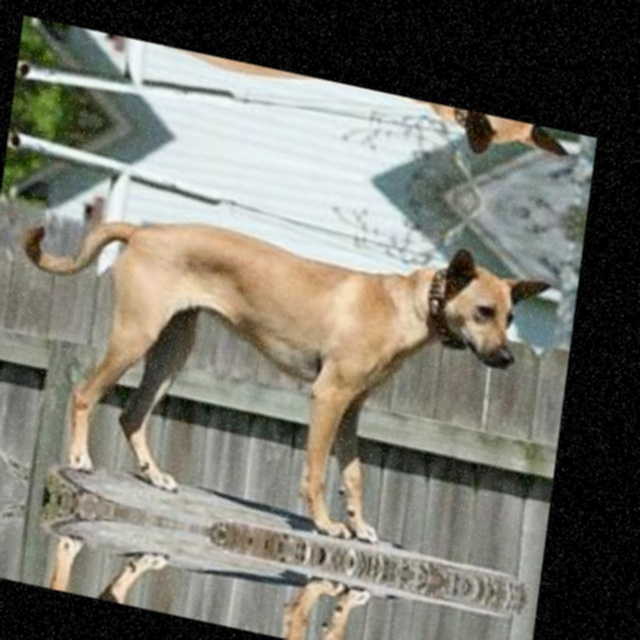dog: (0, 145, 536, 561), (27, 17, 553, 175), (0, 513, 490, 640)
